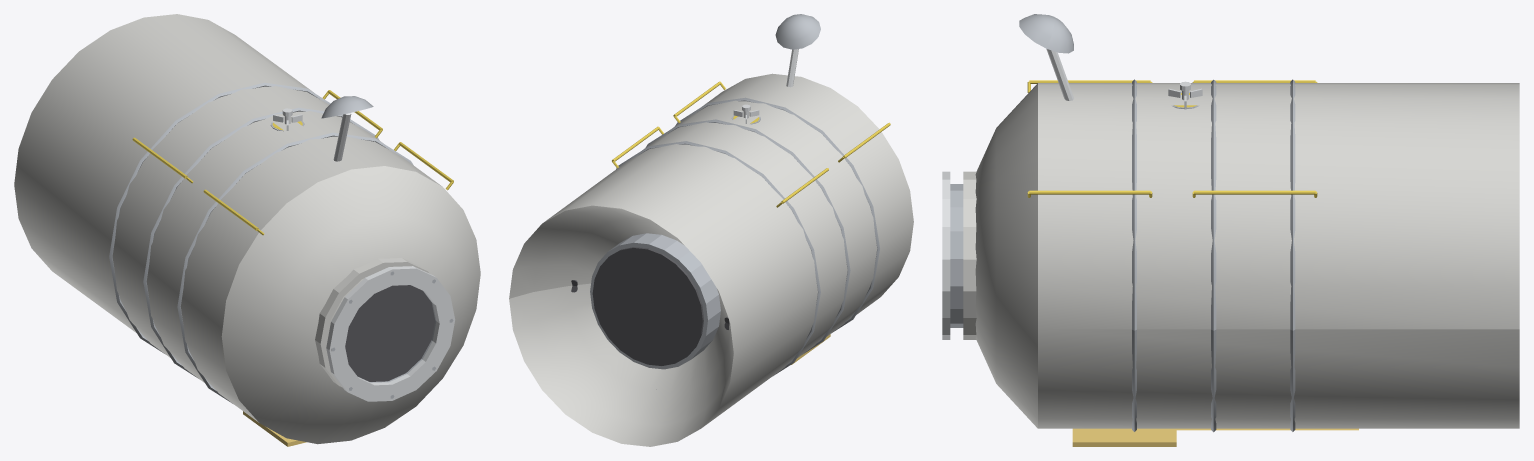
The model's file is orbital-station-and-docking-bays-logistics-module-4cec8528__24533.glb.
The picture shows the model from 3 angles, left to right: view 1: azimuth 30°, elevation 25°; view 2: azimuth 150°, elevation 25°; view 3: azimuth 270°, elevation 25°; orthographic projection. The views are drawn at different scales.
Parts seen in each view (by area): view 1: logistics-module; view 2: logistics-module; view 3: logistics-module.
Part boxes in pixels (x1,y1,x2,y2): logistics-module: (14, 14, 480, 446); logistics-module: (509, 14, 913, 446); logistics-module: (942, 14, 1519, 446).
Size of the model in its own units: 4.08 by 5.12 by 6.65.
